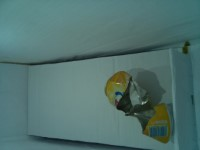kaleng: (104, 70, 173, 144)
